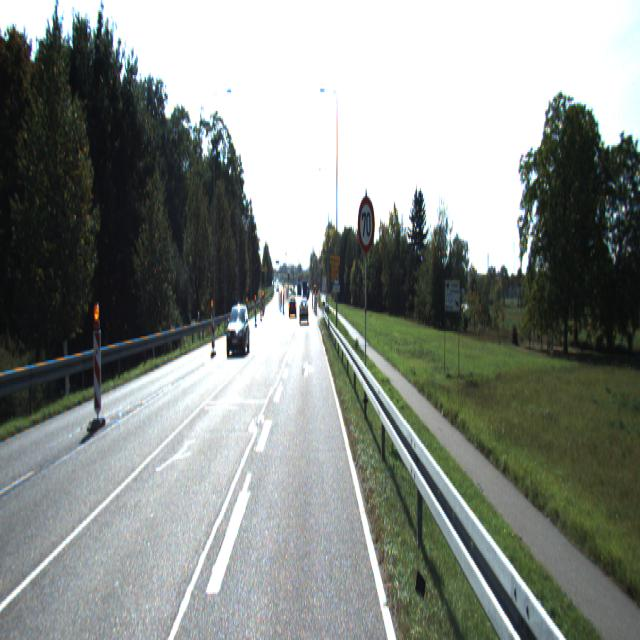Car: (226, 306, 250, 361), (299, 301, 309, 325)
